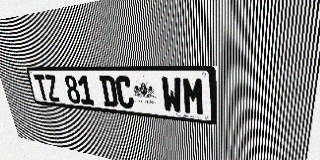1: (76, 75, 94, 105)
8: (64, 75, 81, 104)
C: (115, 76, 135, 109)
D: (99, 76, 119, 108)
M: (182, 77, 205, 116)
T: (34, 75, 50, 101)
W: (161, 77, 183, 114)
Z: (44, 75, 61, 102)
